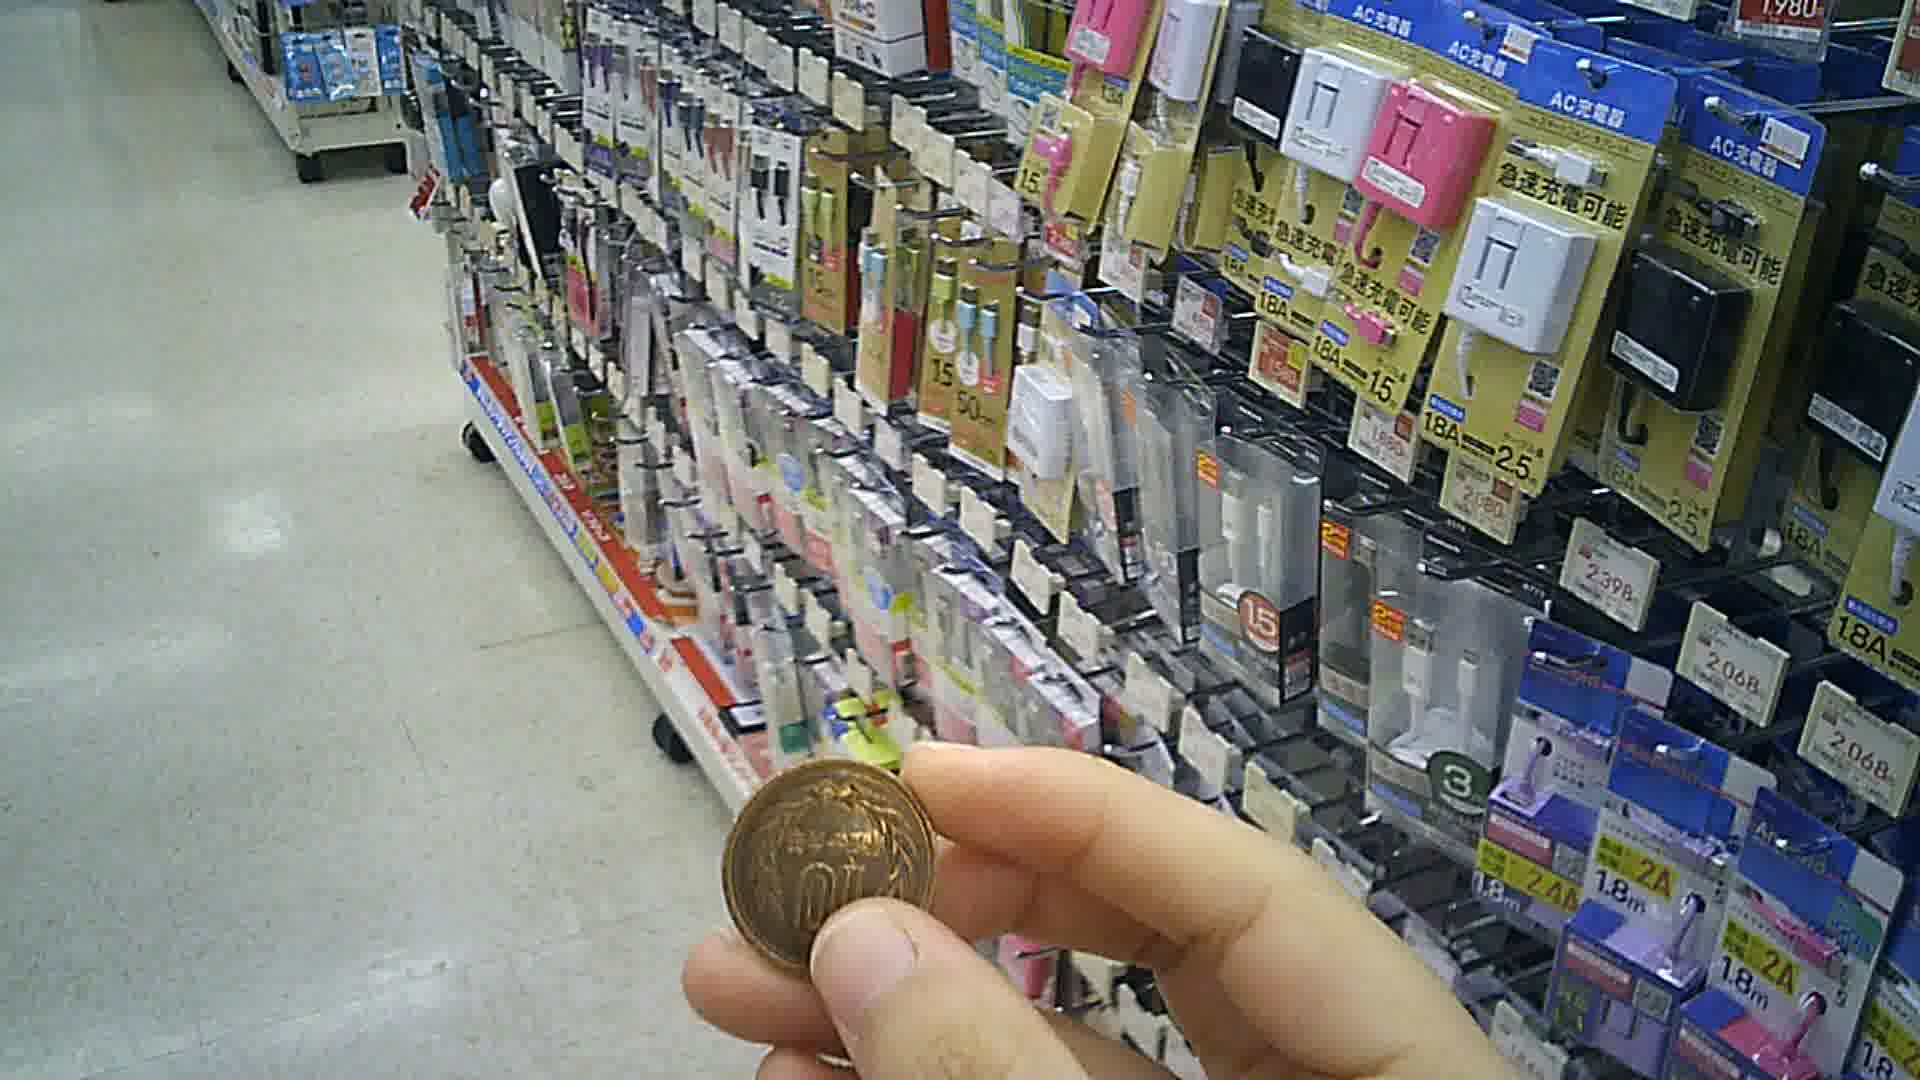10 Yen: (712, 753, 943, 977)
